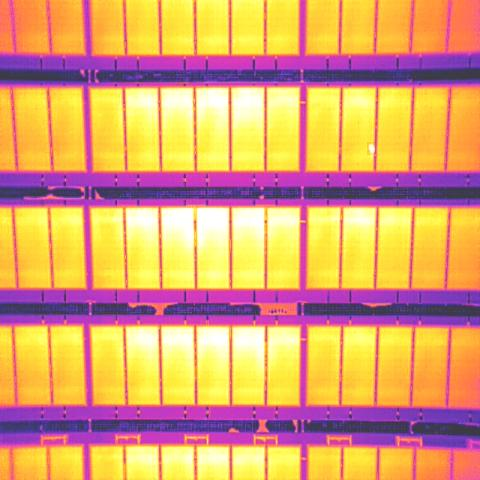fault: (367, 142, 375, 155)
